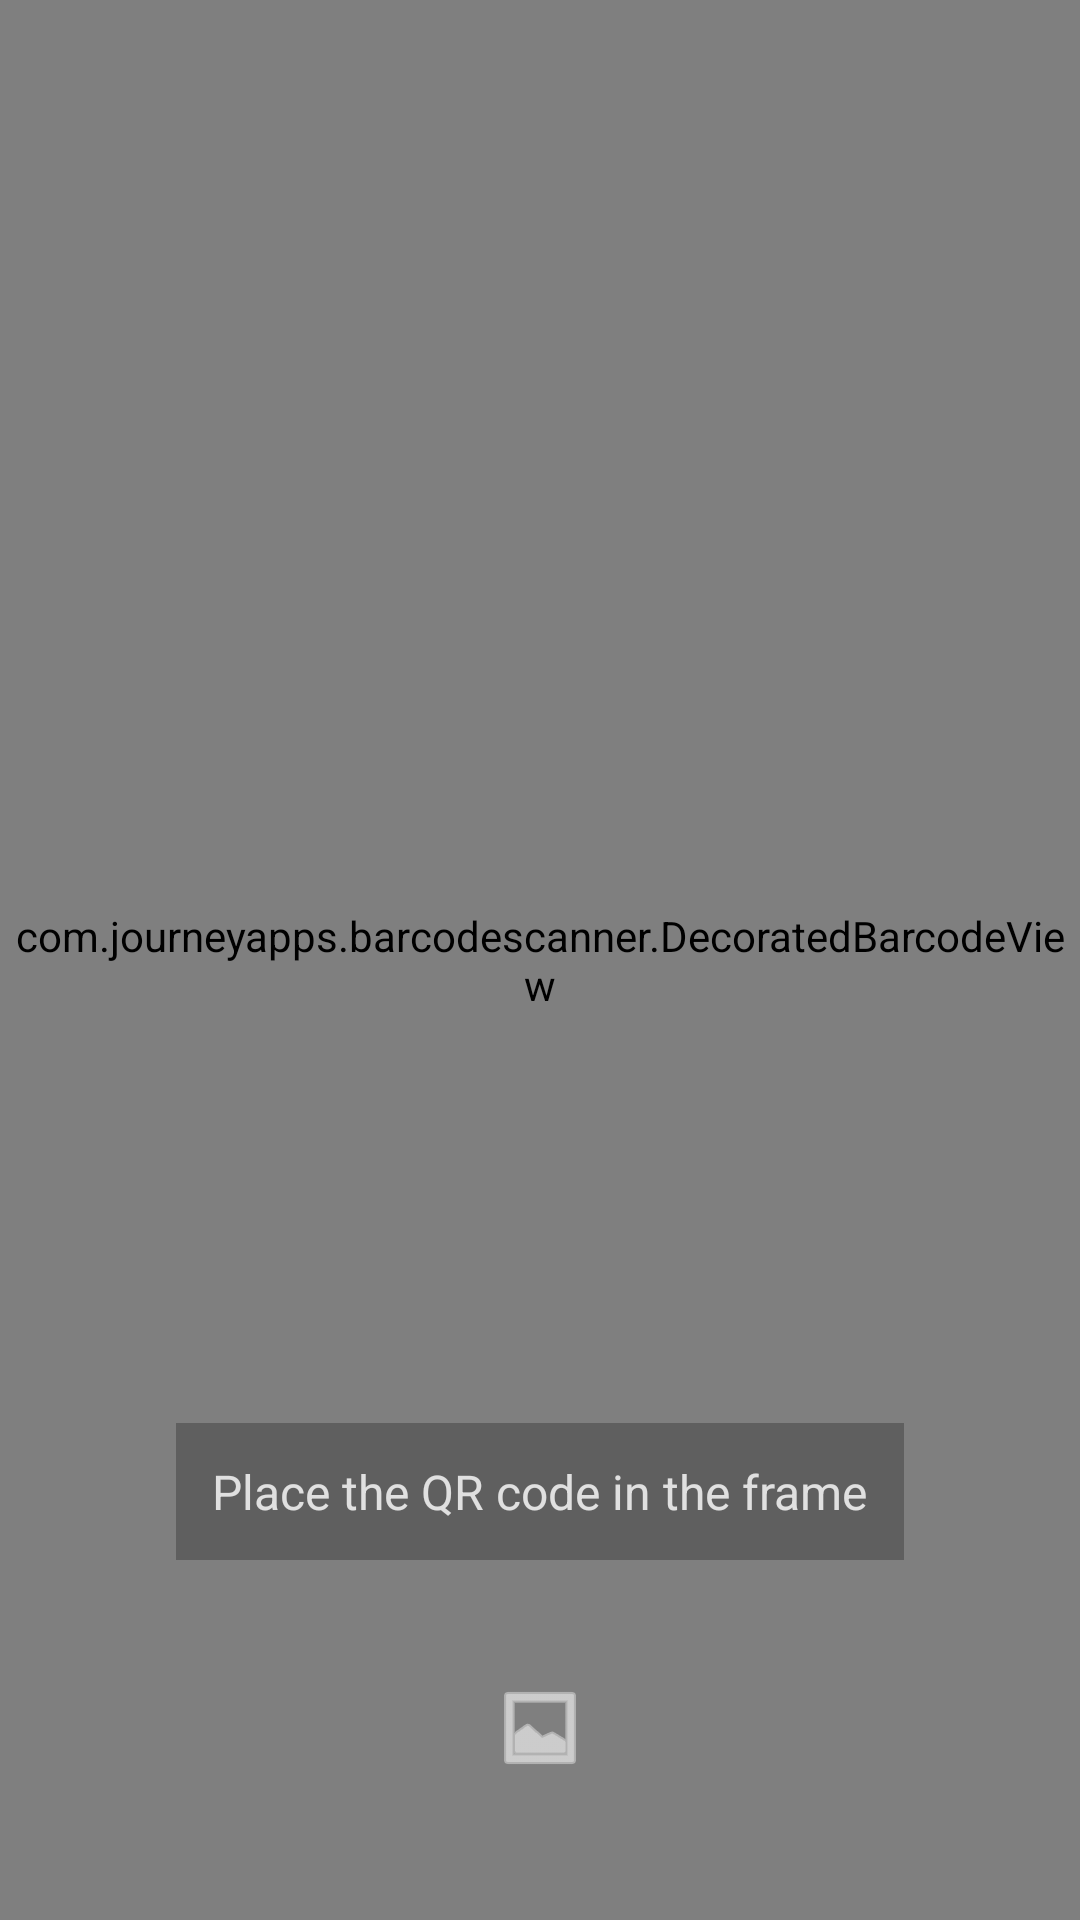

Screen size 1080 × 1920. Icon name, then its center in pixels as (x,y):
Open gallery: (540,1728)
